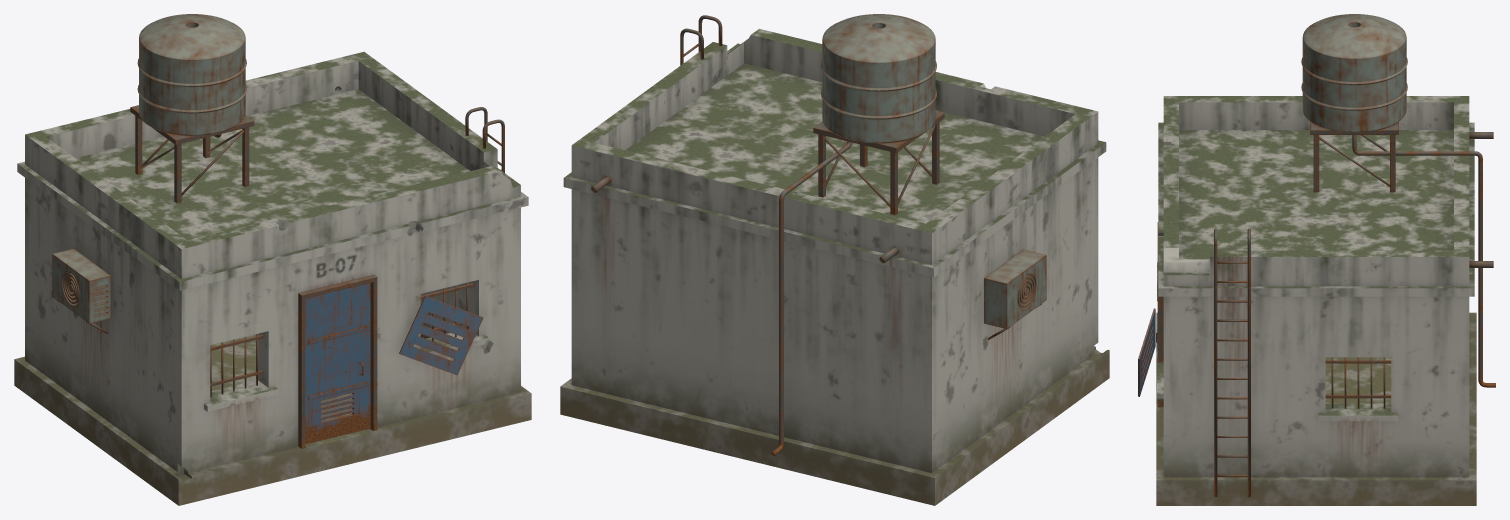
The model's file is Bunker_B.glb.
The picture shows the model from 3 angles, left to right: view 1: azimuth 30°, elevation 25°; view 2: azimuth 150°, elevation 25°; view 3: azimuth 270°, elevation 25°; orthographic projection. The views are drawn at different scales.
Parts seen in each view (by area): view 1: Bunker_B, Bunker_B_Door; view 2: Bunker_B; view 3: Bunker_B.
Part boxes in pixels (x1,y1,x2,y2): Bunker_B: (14, 14, 531, 505); Bunker_B_Door: (305, 283, 370, 444); Bunker_B: (560, 14, 1109, 505); Bunker_B: (1138, 14, 1495, 505).
Bounding box in the file's own units: 5.47 × 5.32 × 4.69.
Materials: 2 (2 with a texture image).
